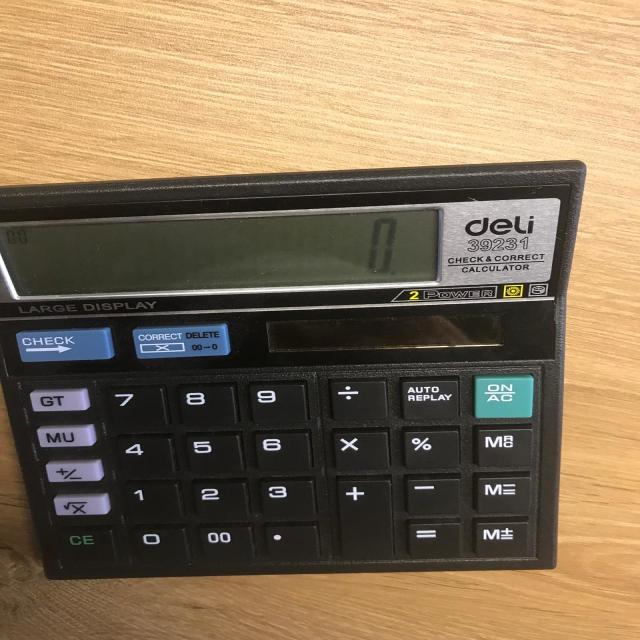calculator: (1, 158, 588, 580)
